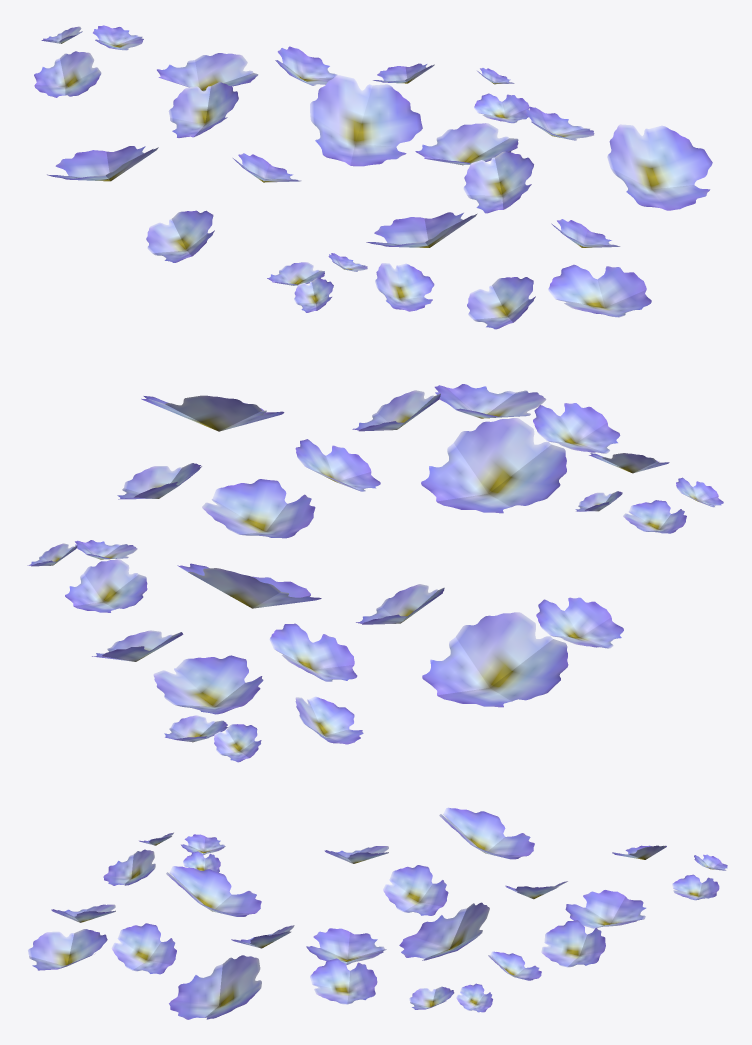
Rendered from Flower_006.fbx.
3 renders of one model, top to bottom at view 1: azimuth 30°, elevation 25°; view 2: azimuth 150°, elevation 25°; view 3: azimuth 270°, elevation 25°, orthographic. The views are drawn at different scales.
Parts seen in each view (by area): view 1: FlowerPatch_006; view 2: FlowerPatch_006; view 3: FlowerPatch_006.
Boxes of the visible parts, x1,y1,x2,y2 form: FlowerPatch_006: (34,25,712,329); FlowerPatch_006: (27,384,723,762); FlowerPatch_006: (28,807,727,1019).
Bounding box in the file's own units: 100 × 15.77 × 139.
